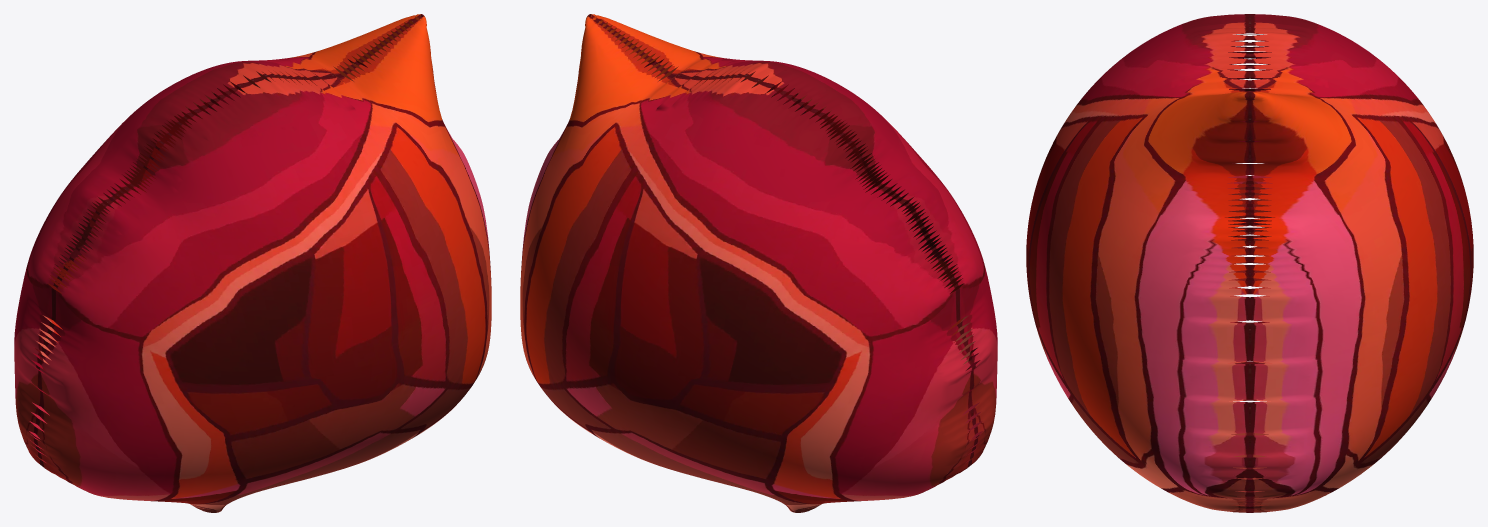
Rendered from west_cave_mouth.glb.
3 renders of one model, left to right at view 1: azimuth 30°, elevation 25°; view 2: azimuth 150°, elevation 25°; view 3: azimuth 270°, elevation 25°, orthographic. The views are drawn at different scales.
Parts seen in each view (by area): view 1: west_cave_mouth; view 2: west_cave_mouth; view 3: west_cave_mouth.
Boxes of the visible parts, bbox=[...] form: west_cave_mouth: bbox=[14, 14, 491, 512]; west_cave_mouth: bbox=[520, 14, 997, 512]; west_cave_mouth: bbox=[1026, 14, 1473, 512].
Size of the model in its own units: 0.9883 by 0.8891 by 0.7966.
Materials: 1 (1 with a texture image).
